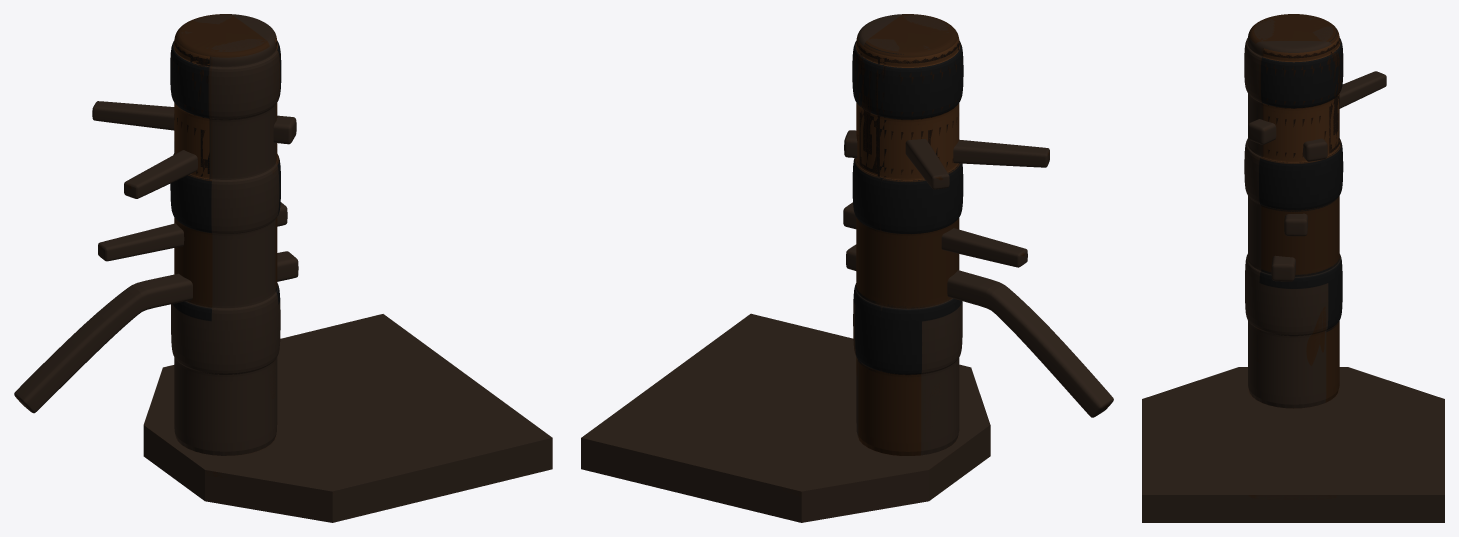
File: Training Dummy.fbx
3 renders of one model, left to right at view 1: azimuth 30°, elevation 25°; view 2: azimuth 150°, elevation 25°; view 3: azimuth 270°, elevation 25°, orthographic. The views are drawn at different scales.
Parts seen in each view (by area): view 1: Bake, Cylinder; view 2: Bake, Cylinder; view 3: Bake, Cylinder.
Part boxes in pixels (left/top/right/bottom): Bake: left=14, top=14, right=552, bottom=522; Cylinder: left=170, top=33, right=281, bottom=179; Bake: left=581, top=14, right=1113, bottom=522; Cylinder: left=852, top=33, right=963, bottom=180; Bake: left=1142, top=14, right=1444, bottom=522; Cylinder: left=1261, top=32, right=1343, bottom=162.
Bounding box in the file's own units: 250 × 232 × 165.
4 materials, 1 textured.
